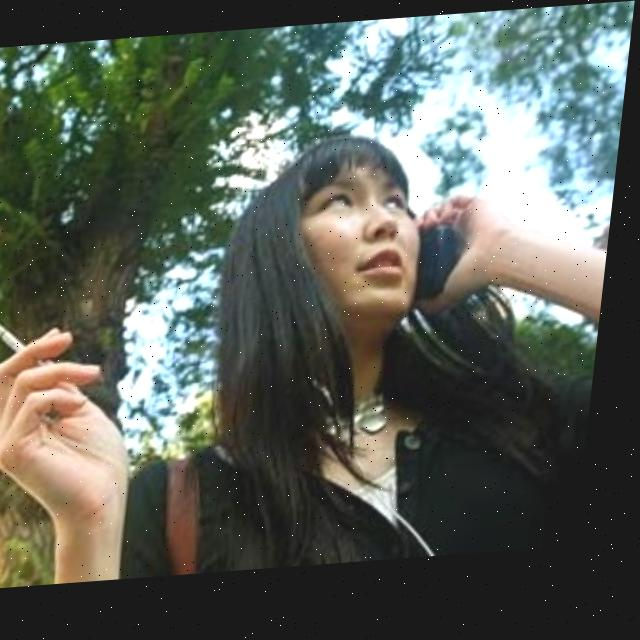cigarette: (0, 319, 36, 355)
